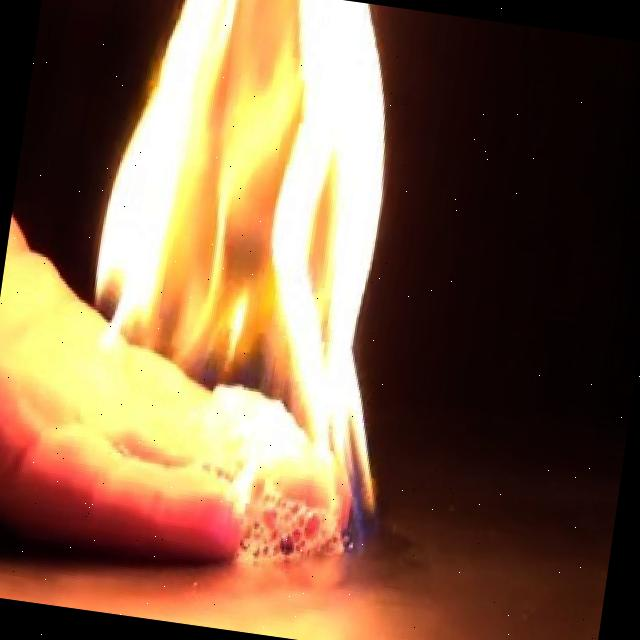fire: (49, 0, 443, 550)
